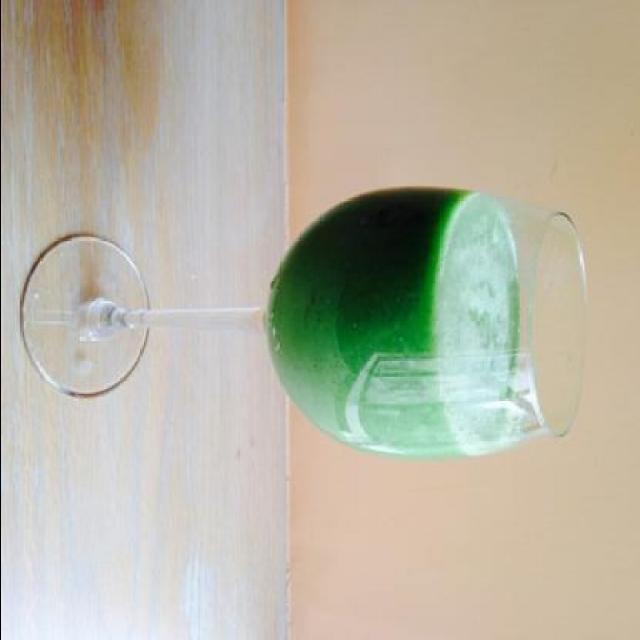Juice: (125, 196, 557, 468)
